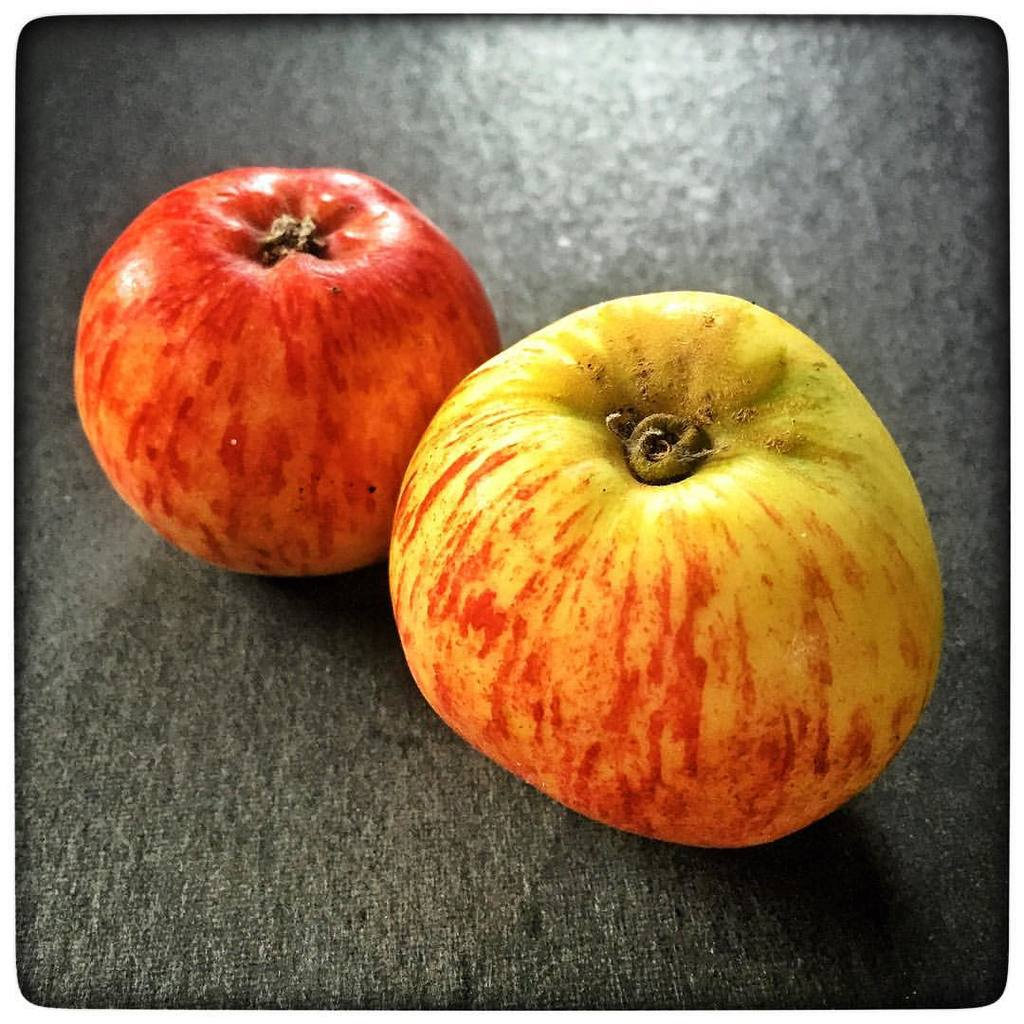Apple: (388, 282, 945, 851), (76, 157, 493, 614)
